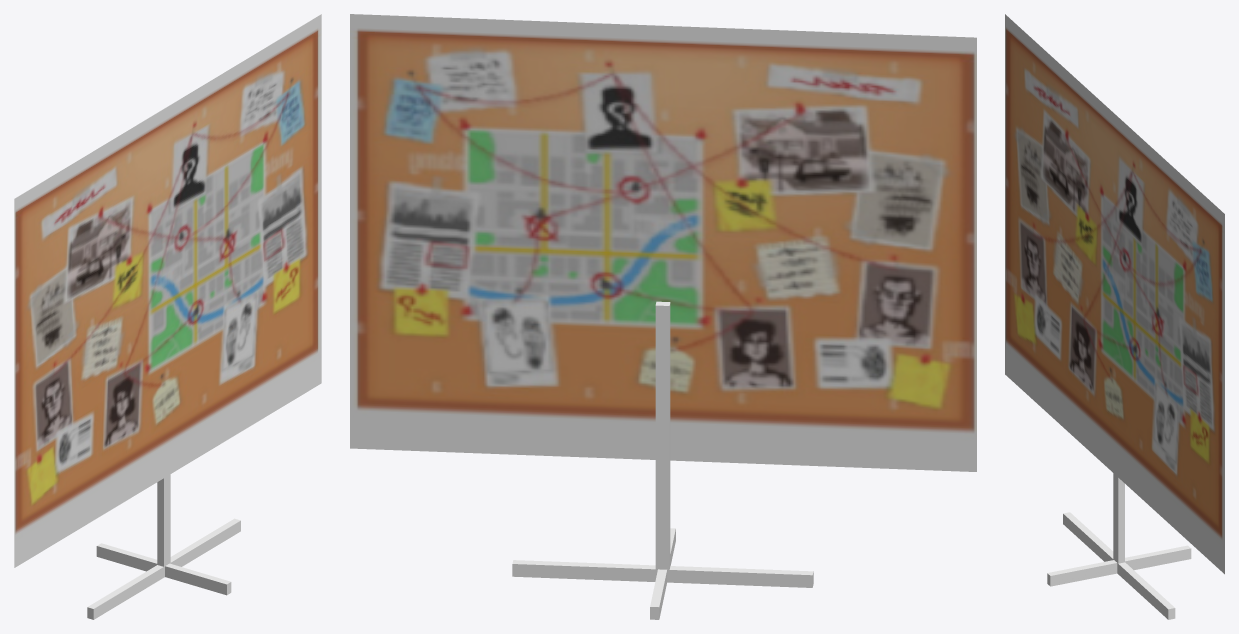
File: tableau.glb
3 renders of one model, left to right at view 1: azimuth 30°, elevation 25°; view 2: azimuth 150°, elevation 25°; view 3: azimuth 270°, elevation 25°, orthographic. The views are drawn at different scales.
Visible parts, largest first — view 1: Cube.006, Cube.004; view 2: Cube.006, Cube.004; view 3: Cube.006, Cube.004.
Boxes of the visible parts, x1=… form: Cube.006: x1=14, y1=14, x2=321, y2=567; Cube.004: x1=87, y1=474, x2=240, y2=619; Cube.006: x1=350, y1=14, x2=976, y2=471; Cube.004: x1=512, y1=301, x2=813, y2=619; Cube.006: x1=1005, y1=14, x2=1224, y2=574; Cube.004: x1=1047, y1=473, x2=1191, y2=619.
Size of the model in its own units: 0.1493 by 0.1594 by 0.0693.
Materials: 2 (1 with a texture image).
